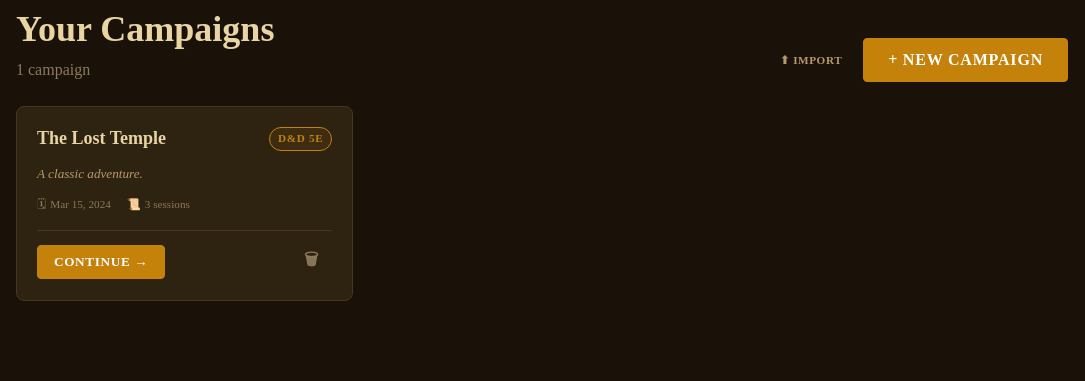
Test: CampaignList › confirm-delete flow › shows an error banner when deleteCampaign rejects
Click the button titled "delete campaign": {"x": 312, "y": 262} [291,243,332,280]
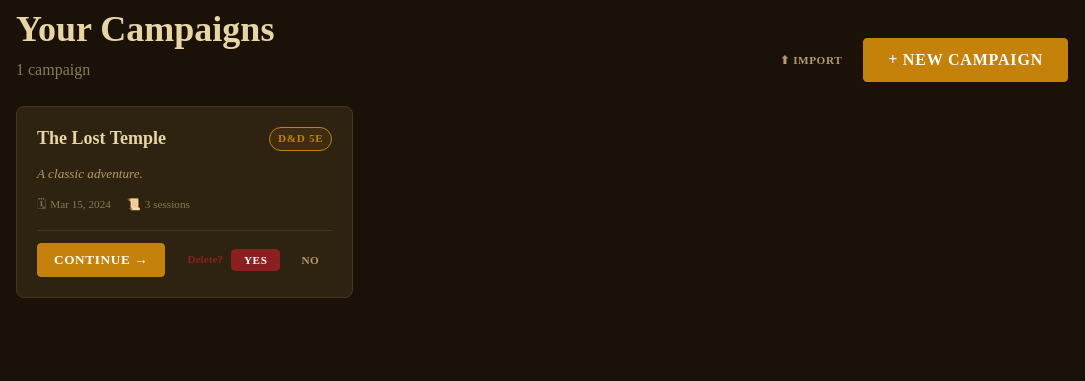
Click the button "Yes": {"x": 256, "y": 260} [231,249,280,271]
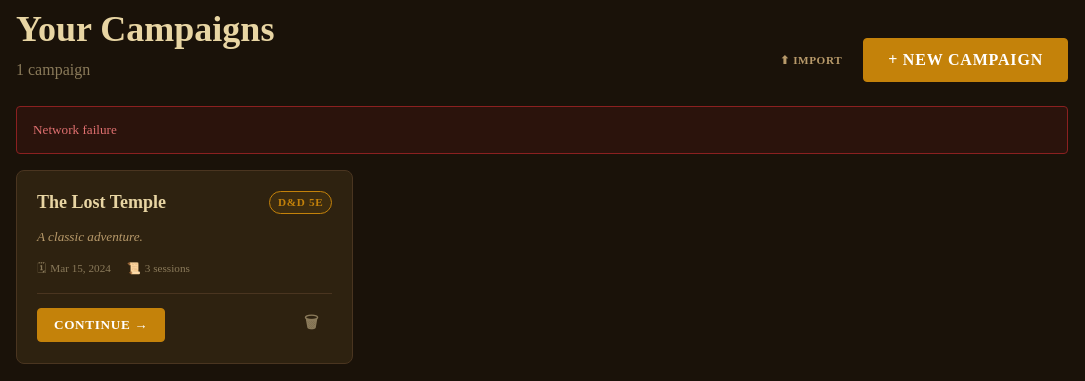
Result: the text "Network failure" is shown at [16,106,1068,154]
